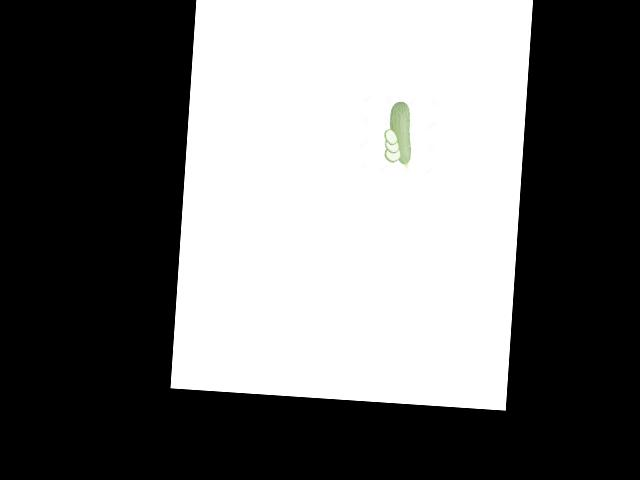cucumber: (386, 100, 413, 168)
